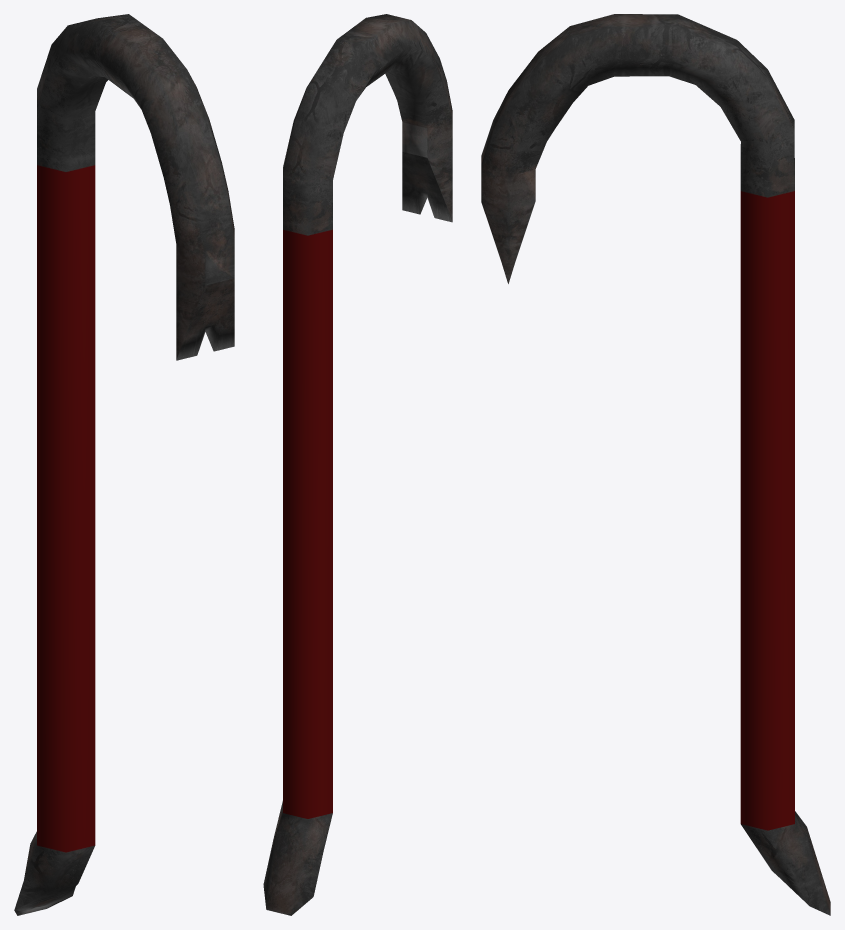
File: crow_bar.glb
3 renders of one model, left to right at view 1: azimuth 30°, elevation 25°; view 2: azimuth 150°, elevation 25°; view 3: azimuth 270°, elevation 25°, orthographic. The views are drawn at different scales.
Parts seen in each view (by area): view 1: pCylinder1; view 2: pCylinder1; view 3: pCylinder1.
Part boxes in pixels (box(x1,y1,x2,y2)): pCylinder1: box(14, 14, 234, 915); pCylinder1: box(263, 14, 452, 915); pCylinder1: box(481, 14, 830, 915).
Size of the model in its own units: 0.00533 by 0.0832 by 0.0297.
1 material, 1 textured.
